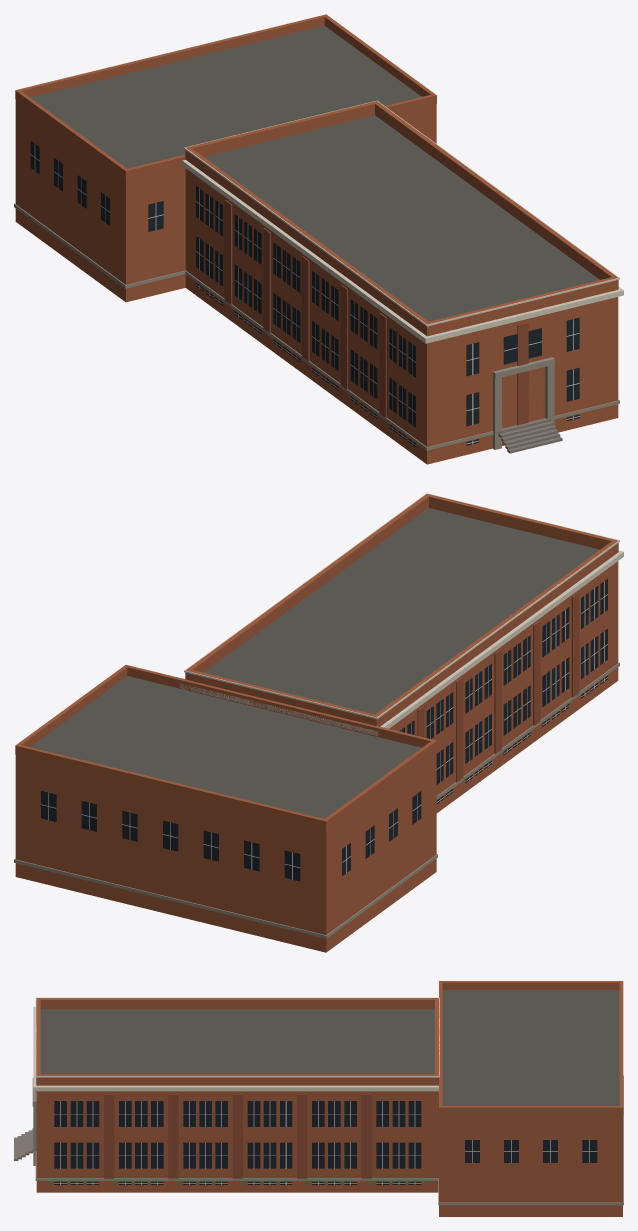
File: robert-e-lee-school-1961.glb
3 renders of one model, top to bottom at view 1: azimuth 30°, elevation 25°; view 2: azimuth 150°, elevation 25°; view 3: azimuth 270°, elevation 25°, orthographic. The views are drawn at different scales.
Parts seen in each view (by area): view 1: robert_brick, robert_tar, robert_glass, robert_trim, robert_brick2, robert_stone, robert_sash, robert_base; view 2: robert_brick, robert_tar, robert_glass, robert_trim, robert_brick2, robert_stone, robert_sash; view 3: robert_brick, robert_tar, robert_glass, robert_brick2, robert_trim, robert_stone, robert_sash, robert_base.
Boxes of the visible parts, bbox=[...] form: robert_brick: bbox=[15, 14, 618, 464]; robert_tar: bbox=[30, 25, 599, 321]; robert_glass: bbox=[30, 141, 579, 446]; robert_trim: bbox=[182, 100, 623, 343]; robert_brick2: bbox=[224, 200, 528, 425]; robert_stone: bbox=[14, 203, 619, 450]; robert_sash: bbox=[30, 144, 579, 445]; robert_base: bbox=[498, 418, 562, 453]; robert_brick: bbox=[15, 494, 618, 952]; robert_tar: bbox=[30, 508, 599, 818]; robert_glass: bbox=[41, 579, 607, 881]; robert_trim: bbox=[180, 493, 623, 736]; robert_brick2: bbox=[417, 592, 579, 782]; robert_stone: bbox=[14, 662, 619, 938]; robert_sash: bbox=[41, 581, 607, 879]; robert_brick: bbox=[36, 981, 623, 1216]; robert_tar: bbox=[40, 990, 619, 1105]; robert_glass: bbox=[54, 1101, 597, 1184]; robert_brick2: bbox=[35, 1091, 371, 1178]; robert_trim: bbox=[33, 997, 439, 1091]; robert_stone: bbox=[32, 1075, 623, 1205]; robert_sash: bbox=[54, 1101, 597, 1184]; robert_base: bbox=[14, 1128, 33, 1160].
Bounding box in the file's own units: 26.16 × 11.2 × 53.05.
